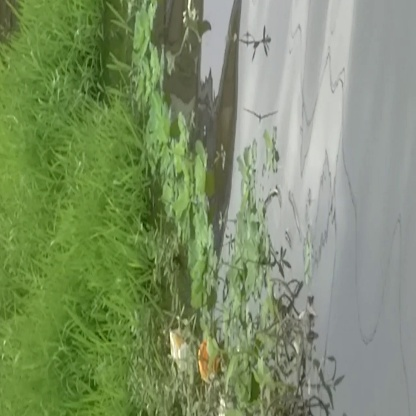grass: (211, 205, 306, 342)
